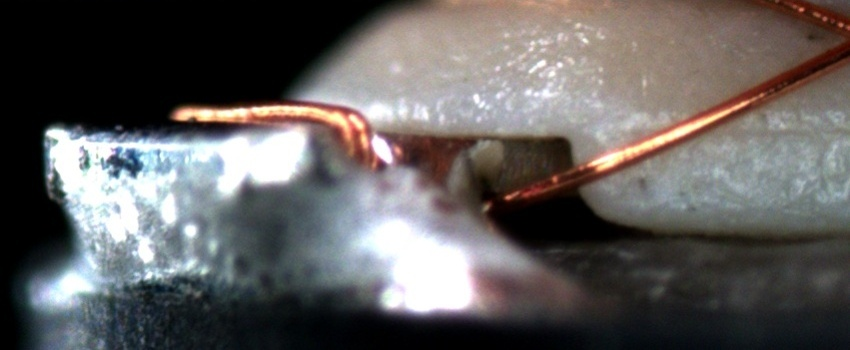CL: (809, 3, 850, 70)
DL: (712, 98, 849, 158)
TE: (154, 100, 387, 177)
